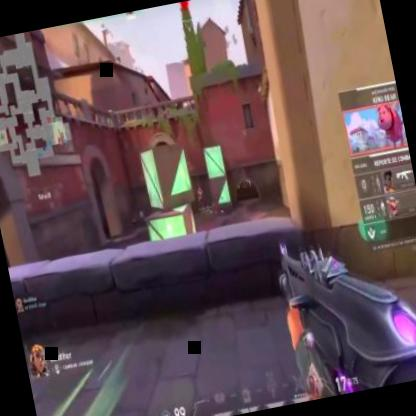enemy: (194, 184, 208, 210)
enemy_head: (197, 186, 201, 192)
